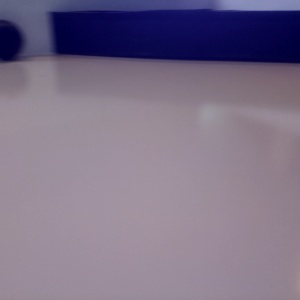zone: (50, 10, 300, 63)
